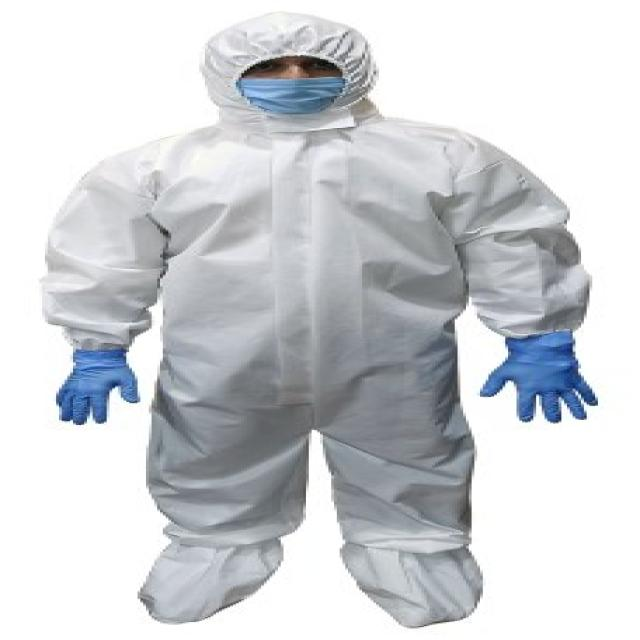Coverall: (37, 9, 600, 627)
Gloves: (480, 332, 609, 423), (54, 348, 138, 420)
Mask: (230, 76, 348, 112)
